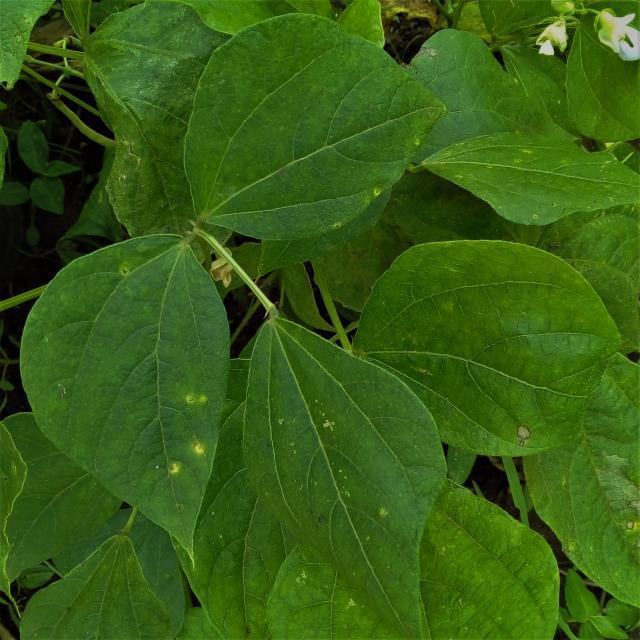embun tepung: (70, 229, 461, 554)
